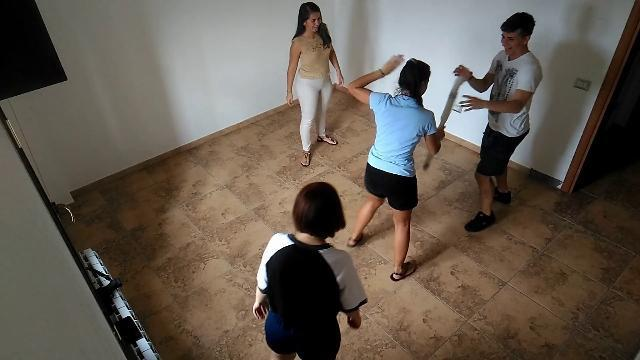non-violence: (253, 180, 369, 360), (285, 1, 345, 170)
violence: (344, 9, 544, 281)
